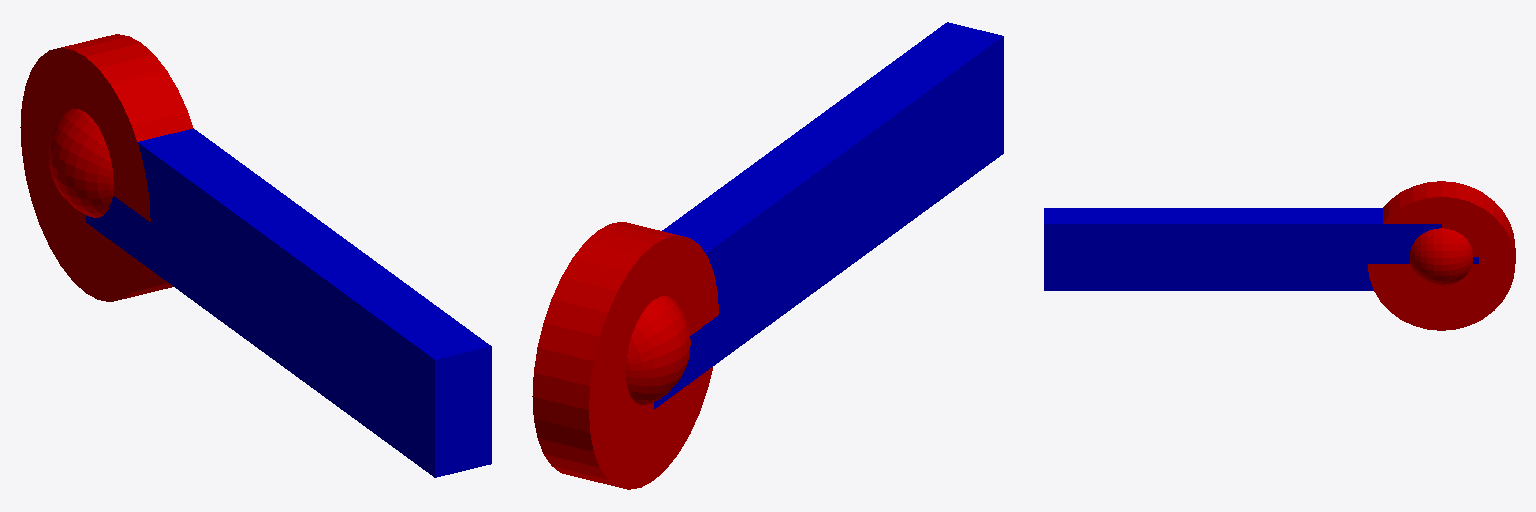
URDF robot description (TwoLinkStruct6203132053):
<?xml version="1.0"?>
<robot  name="TwoLinkStruct6203132053" >
 <material  name="blue" >
  <color  rgba="0 0 0.8 1.0" />
 </material>
 <material  name="red" >
  <color  rgba="0.8 0 0 1.0" />
 </material>
 <link  name="base_link" >
  <visual >
   <origin  rpy="0 1.5707 0"  xyz="0 0 0" />
   <material  name="red" />
   <geometry >
    <cylinder  length="0.05"  radius="0.1" />
   </geometry>
  </visual>
 </link>
 <joint  type="revolute"  name="joint1" >
  <parent  link="base_link" />
  <child  link="link1" />
  <origin  xyz="0 0 0"  rpy="0 0 0" />
  <axis  xyz="1 0 0" />
 </joint>
 <link  name="link1" >
  <inertial >
   <origin  rpy="0 0 0"  xyz="0 0 0.005" />
   <mass  value="0.026368212699890137" />
   <inertia  ixy="0.0"  iyy="1.0986755291620892e-05"  izz="5.713112751642864e-06"  ixz="0.0"  ixx="5.713112751642864e-06"  iyz="0.0" />
  </inertial>
  <visual >
   <origin  rpy="0 0 0"  xyz="0 0 0.005" />
   <material  name="blue" />
   <geometry >
    <box  size="0.05 0.1 0.01" />
   </geometry>
  </visual>
 </link>
 <joint  type="fixed"  name="joint-joint-1" >
  <parent  link="link1" />
  <child  link="joint-link-1" />
  <origin  xyz="0 0 0.01"  rpy="1.5707 0 0" />
  <axis  xyz="1 0 0" />
 </joint>
 <link  name="joint-link-1" >
  <inertial >
   <origin  rpy="0 0 0"  xyz="0 0 0" />
   <mass  value="4.02352134709008" />
   <inertia  ixy="0"  iyy="0"  izz="0"  ixz="0"  ixx="0"  iyz="0" />
  </inertial>
  <visual >
   <origin  rpy="0 0 0"  xyz="0 0 0" />
   <material  name="red" />
   <geometry >
    <sphere  radius="0.05" />
   </geometry>
  </visual>
 </link>
 <joint  type="revolute"  name="joint2" >
  <parent  link="link1" />
  <child  link="link2" />
  <origin  xyz="0 0 0.01"  rpy="1.5707 0 0" />
  <axis  xyz="1 0 0" />
 </joint>
 <link  name="link2" >
  <inertial >
   <origin  rpy="0 0 0"  xyz="0 0 0.26835358832083916" />
   <mass  value="1.2646852815129068" />
   <inertia  ixy="0.0"  iyy="1.0986755291620892e-05"  izz="0.0006384504434373856"  ixz="0.0"  ixx="0.0006384504434373856"  iyz="0.0" />
  </inertial>
  <visual >
   <origin  rpy="0 0 0"  xyz="0 0 0.26835358832083916" />
   <material  name="blue" />
   <geometry >
    <box  size="0.05 0.1 0.5367071766416783" />
   </geometry>
  </visual>
 </link>
 <joint  type="fixed"  name="eef_joint" >
  <parent  link="link2" />
  <child  link="eef" />
  <origin  xyz="0 0 0.5367071766416783"  rpy="0 0 0" />
 </joint>
 <link  name="eef" >
  <inertial >
   <origin  rpy="0 0 0"  xyz="0 0 0" />
   <mass  value="1" />
   <inertia  ixy="0"  iyy="0"  izz="0"  ixz="0"  ixx="0"  iyz="0" />
  </inertial>
 </link>
 <transmission  name="motor1" >
  <type  xmltext="SimpleTransmission" >
   SimpleTransmission
  </type>
  <actuator  name="motor1" >
   <mechanicalreduction  xmltext="1" >
    1
   </mechanicalreduction>
  </actuator>
  <joint  name="joint1" />
 </transmission>
 <transmission  name="motor2" >
  <type  xmltext="SimpleTransmission" >
   SimpleTransmission
  </type>
  <actuator  name="motor2" >
   <mechanicalreduction  xmltext="1" >
    1
   </mechanicalreduction>
  </actuator>
  <joint  name="joint2" />
 </transmission>
</robot>

<!-- {'carti': array([-0.1 ,  0.14,  0.85]), 'cartd': array([-0.1 ,  0.32,  1.29]), 'tau_mu': 0.7899567956119474, 'b0': 0.04583511531675397, 'Km': 3.624342135009569, 'k_velocity': 6.76311724882745, 'tau_max_m': 3.052028849716561, 'omega_max_m': 1594.3883407955877, 'gear_ratio': 0.1, 'Kp': 27.83207190533962, 'Kd': 79.65407586499994, 'm_m': 4.02352134709008, 'l1': 0.01, 'l2': 0.5367071766416783, 'k1': 13262.061452021524, 'k2': 153412174.46594152, 'k3': 279963695.07815254}-->

--- Facts derived from the render (not from the file) ---
The picture shows the robot from 3 angles, left to right: view 1: azimuth 30°, elevation 25°; view 2: azimuth 150°, elevation 25°; view 3: azimuth 270°, elevation 25°; orthographic projection.
Model TwoLinkStruct6203132053 with 5 links and 4 joints (2 revolute, 2 fixed), rooted at base_link, posed all joints at 0.
Links seen in each view (by area): view 1: link2, base_link, joint-link-1; view 2: link2, base_link, joint-link-1; view 3: link2, base_link, joint-link-1.
Link boxes in pixels (box(x1,y1,x2,y2)): link2: box(86, 128, 491, 477); base_link: box(20, 34, 192, 301); joint-link-1: box(49, 108, 113, 217); link2: box(654, 22, 1003, 408); base_link: box(532, 222, 718, 489); joint-link-1: box(626, 296, 690, 405); link2: box(1044, 208, 1441, 290); base_link: box(1368, 181, 1515, 330); joint-link-1: box(1410, 228, 1472, 285).
Size in the robot's own frame: 0.1 by 0.6367 by 0.2 metres.
Geometry: primitives only (box / cylinder / sphere), no mesh files.
